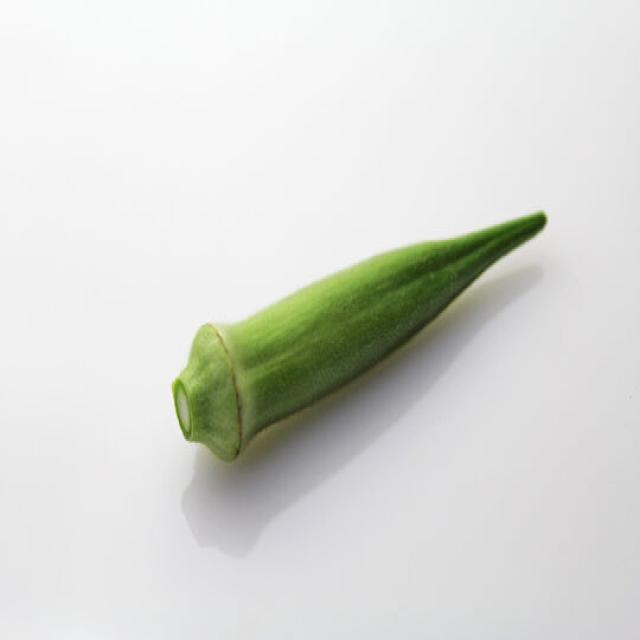Okra: (170, 208, 548, 462)
